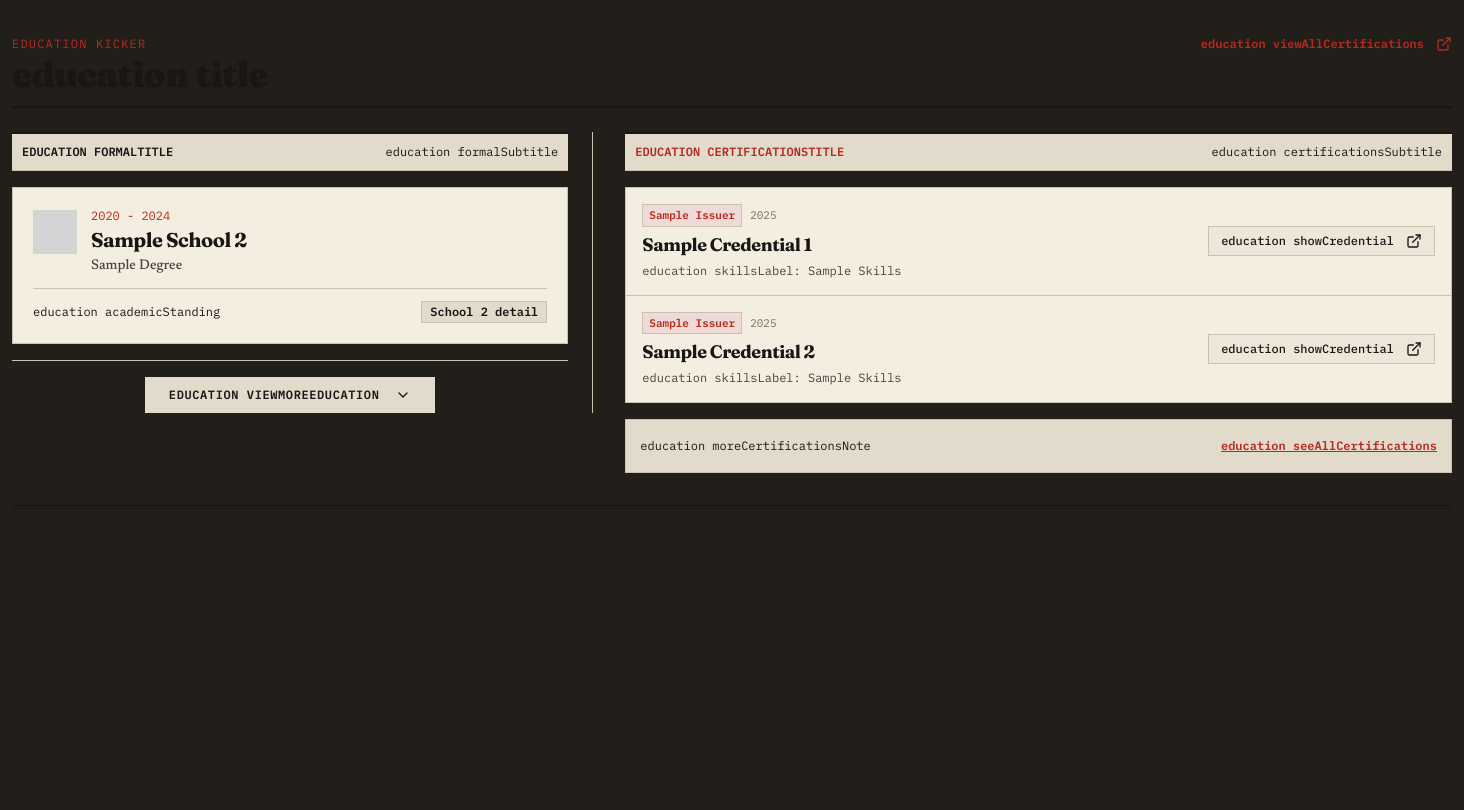
Test: interactions › reveals an archived school independently of continuing education
Check: the heading "Sample School 1" is not shown
What coordinates should you click on to do the following:
click the button "education viewMoreEducation"
I would click on:
 (290, 394)
Its box is [145,376,436,412].
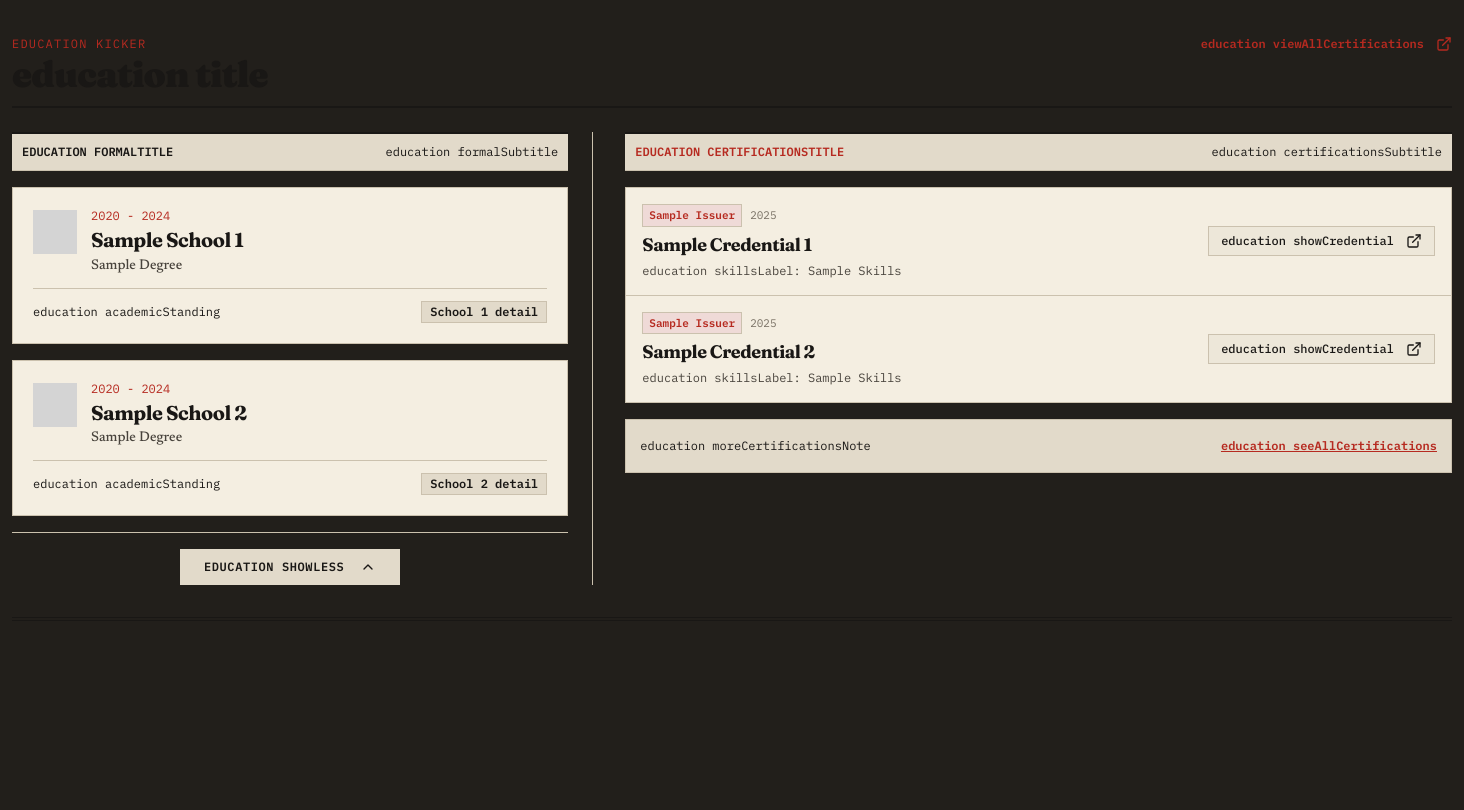
Check: the heading "Sample School 1" is shown, box [91,227,244,252]
What coordinates should you click on to do the following:
click the button "education showLess"
I would click on:
 (290, 567)
Its box is [180,549,400,585].
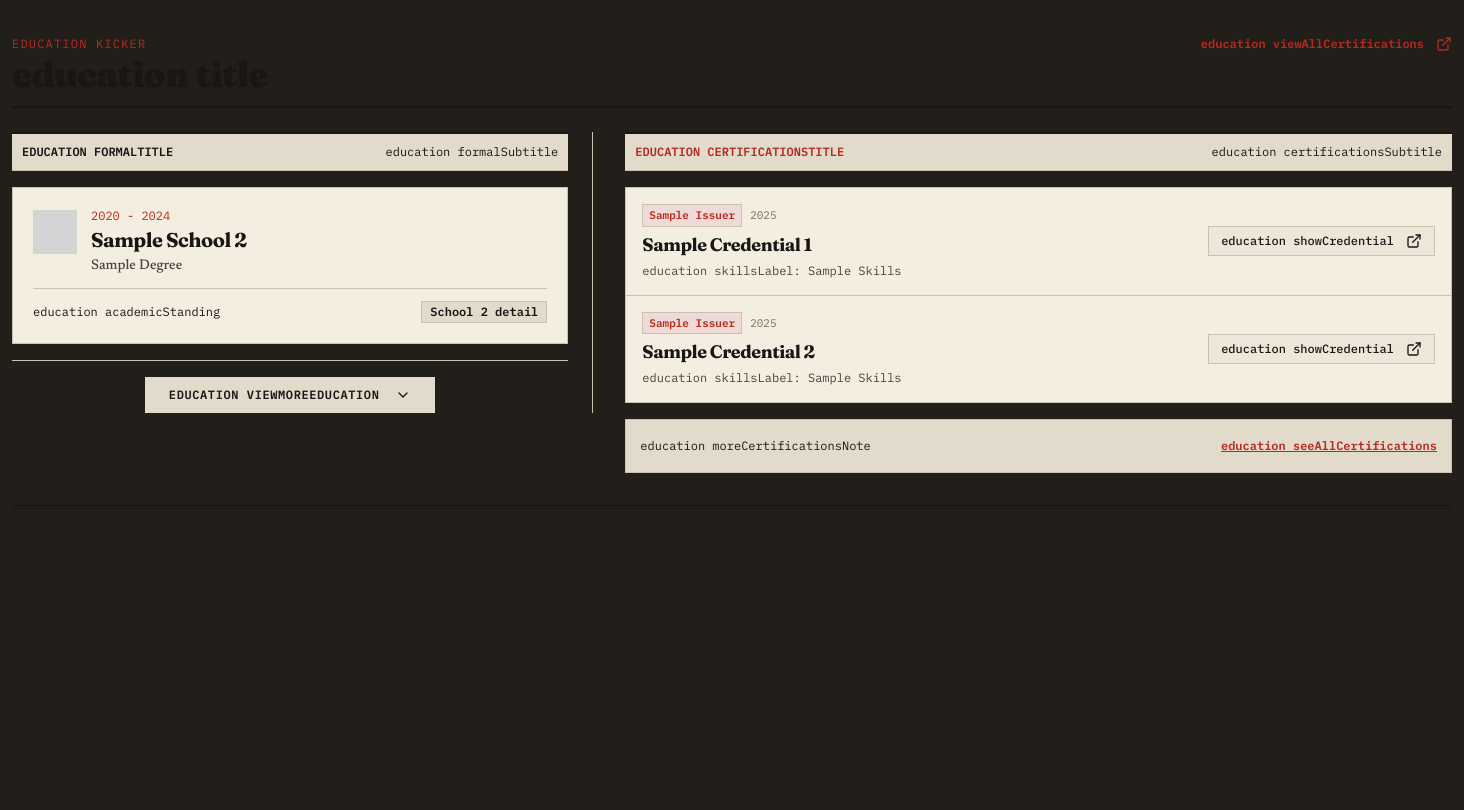
Check: the heading "Sample School 1" is gone
